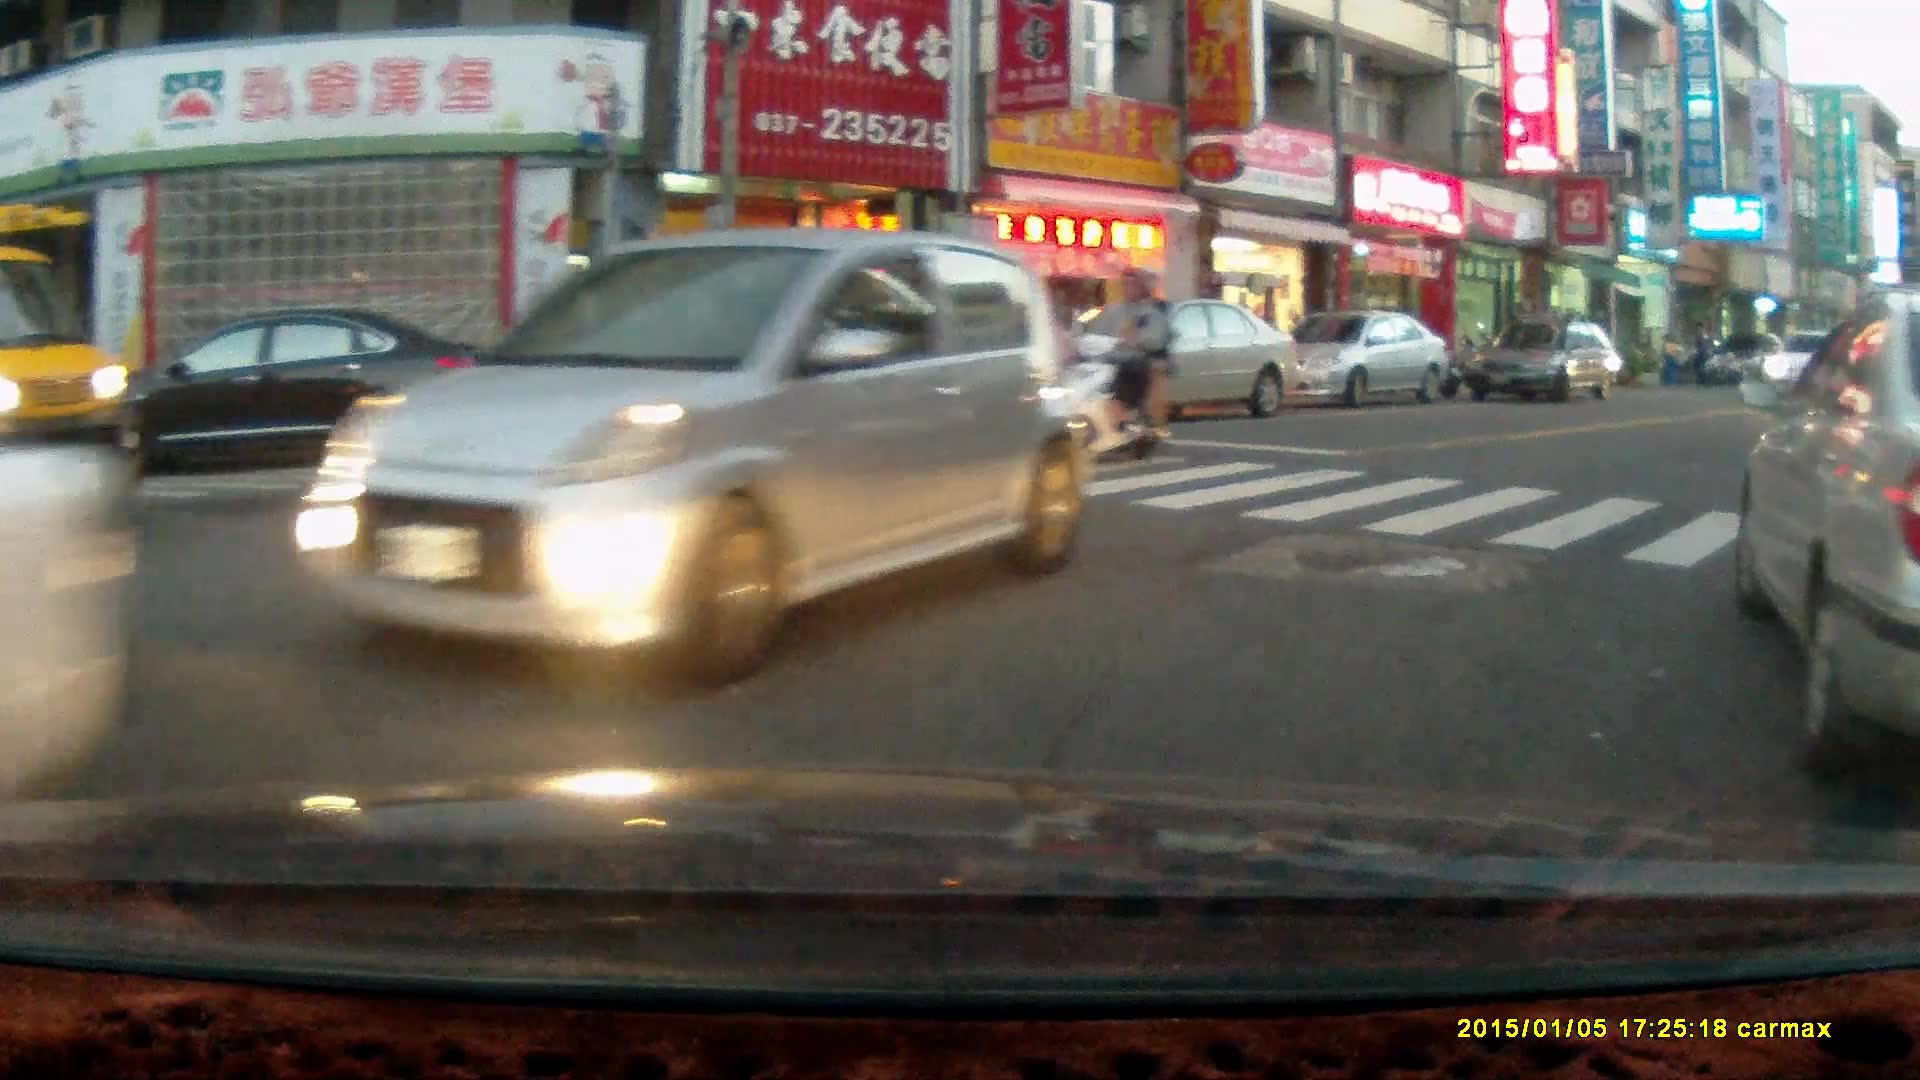pedestrian: (1040, 279, 1084, 434)
rider: (1024, 260, 1171, 456)
vehicle: (296, 226, 1069, 692), (1730, 294, 1920, 781), (119, 302, 484, 466), (1, 441, 142, 805), (1096, 294, 1307, 418), (1270, 306, 1454, 401), (1463, 317, 1630, 404)
